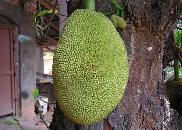jackfruit: (52, 1, 130, 126)
